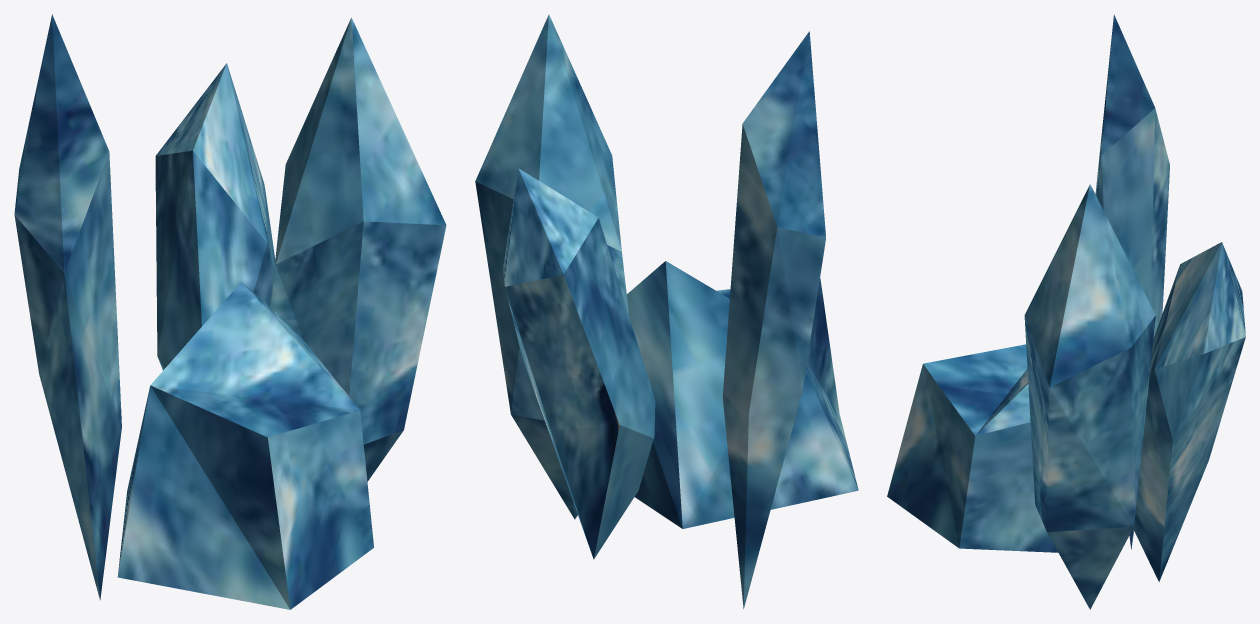
3 renders of one model, left to right at view 1: azimuth 30°, elevation 25°; view 2: azimuth 150°, elevation 25°; view 3: azimuth 270°, elevation 25°, orthographic. The views are drawn at different scales.
Visible parts, largest first — view 1: a79; view 2: a79; view 3: a79.
Boxes of the visible parts, <box> form: a79: <box>14,14,446,609</box>; a79: <box>475,14,858,608</box>; a79: <box>887,14,1245,609</box>.
Size of the model in its own units: 481 by 729 by 463.
